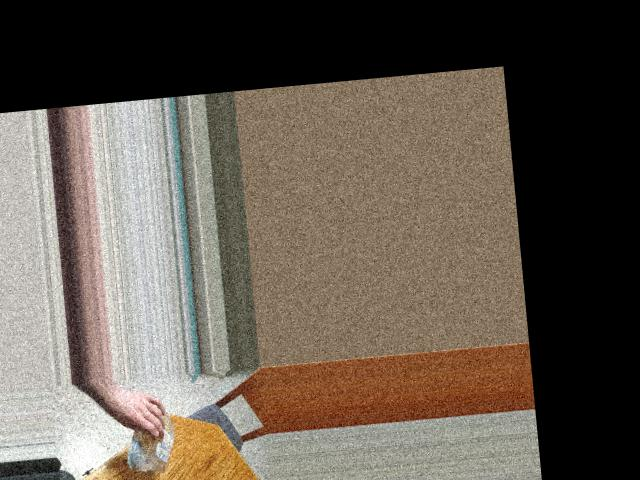cheese: (126, 411, 179, 470)
